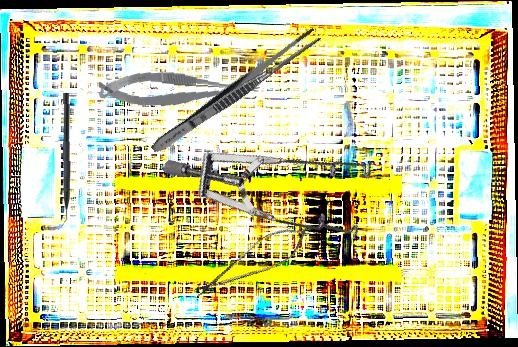Chopper: (54, 93, 72, 230)
Dressing Forceps: (147, 24, 323, 159)
Micro Scissor: (187, 215, 318, 309), (97, 65, 261, 117)
Speculum: (160, 59, 401, 298)
